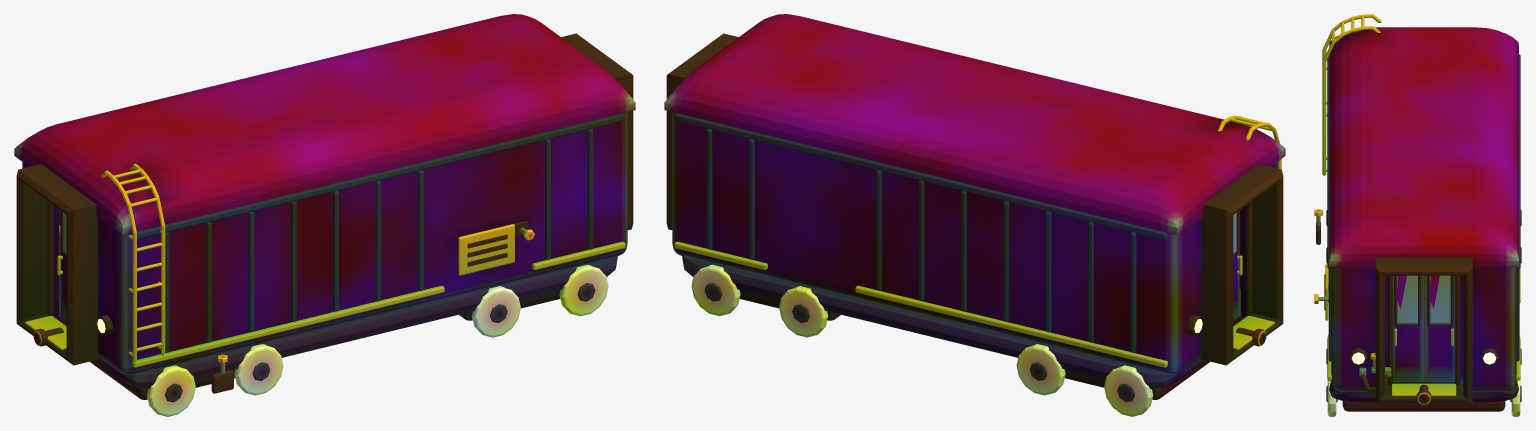
File: CargoWagon_Blockout.fbx
3 renders of one model, left to right at view 1: azimuth 30°, elevation 25°; view 2: azimuth 150°, elevation 25°; view 3: azimuth 270°, elevation 25°, orthographic. The views are drawn at different scales.
Parts seen in each view (by area): view 1: Roof, Body, Underframe, Ends, Livery, RoofLadder, Fixed_Rail__DoorLatch, EndDoorLeaf_R_Rear; view 2: Roof, Body, Underframe, Ends, Livery, EndDoorLeaf_L_Rear, RoofLadder; view 3: Roof, Body, Ends, EndDoorLeaf_R_Front, EndDoorLeaf_L_Front, Underframe, Livery, RoofLadder, Coupler_Front, Fixed_Rail__DoorLatch.
Part boxes in pixels (x1,y1,x2,y2): Roof: [14, 14, 635, 234]; Body: [22, 112, 627, 374]; Underframe: [90, 256, 617, 416]; Ends: [16, 33, 633, 365]; Livery: [132, 113, 625, 367]; RoofLadder: [101, 163, 165, 362]; Fixed_Rail__DoorLatch: [458, 224, 514, 275]; EndDoorLeaf_R_Rear: [57, 210, 66, 320]; Roof: [664, 14, 1285, 234]; Body: [672, 112, 1277, 374]; Underframe: [682, 256, 1209, 416]; Ends: [666, 33, 1283, 365]; Livery: [674, 113, 1167, 367]; EndDoorLeaf_L_Rear: [1233, 210, 1242, 320]; RoofLadder: [1217, 115, 1281, 169]; Roof: [1329, 27, 1518, 267]; Body: [1331, 267, 1516, 391]; Ends: [1349, 257, 1498, 402]; EndDoorLeaf_R_Front: [1424, 275, 1455, 382]; EndDoorLeaf_L_Front: [1393, 275, 1423, 382]; Underframe: [1326, 210, 1521, 416]; Livery: [1327, 54, 1520, 380]; RoofLadder: [1322, 14, 1381, 175]; Coupler_Front: [1416, 384, 1431, 404]; Fixed_Rail__DoorLatch: [1324, 264, 1328, 320].
Size of the model in its own units: 8.16 by 3.21 by 2.91.
